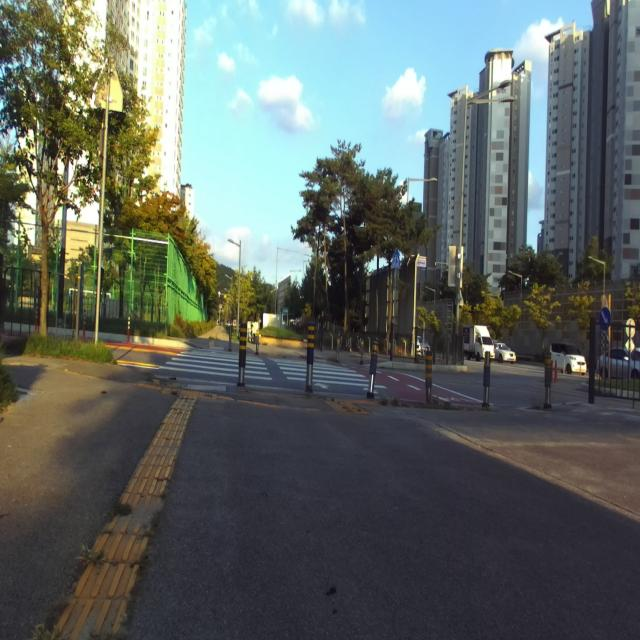횡단보도: (159, 350, 387, 394)
